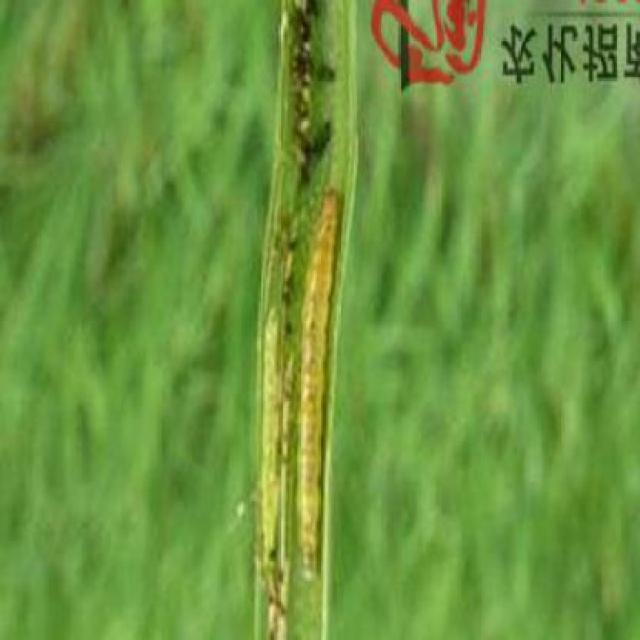leaf-folder: (251, 178, 338, 592)
